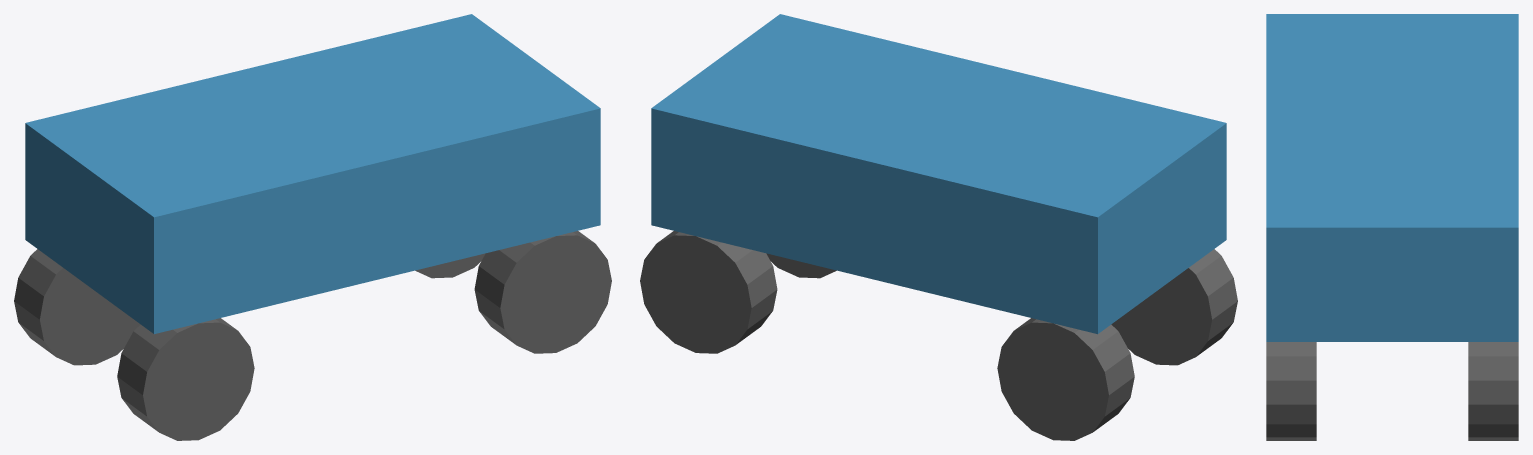
File: car_blue.glb
The picture shows the model from 3 angles, left to right: view 1: azimuth 30°, elevation 25°; view 2: azimuth 150°, elevation 25°; view 3: azimuth 270°, elevation 25°; orthographic projection. The views are drawn at different scales.
Visible parts, largest first — view 1: world; view 2: world; view 3: world.
Part boxes in pixels (bbox=[...]): world: bbox=[14, 14, 611, 440]; world: bbox=[640, 14, 1237, 440]; world: bbox=[1266, 14, 1518, 440].
Size of the model in its own units: 2.1 by 1 by 1.
